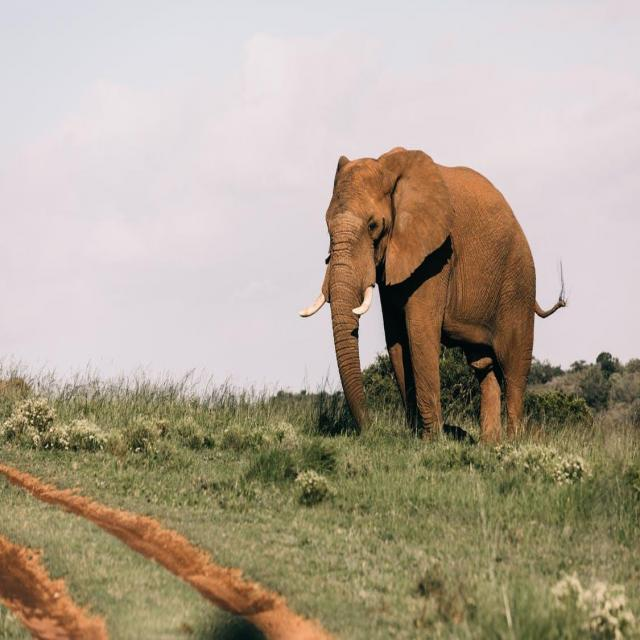Elephant: (304, 142, 567, 462)
